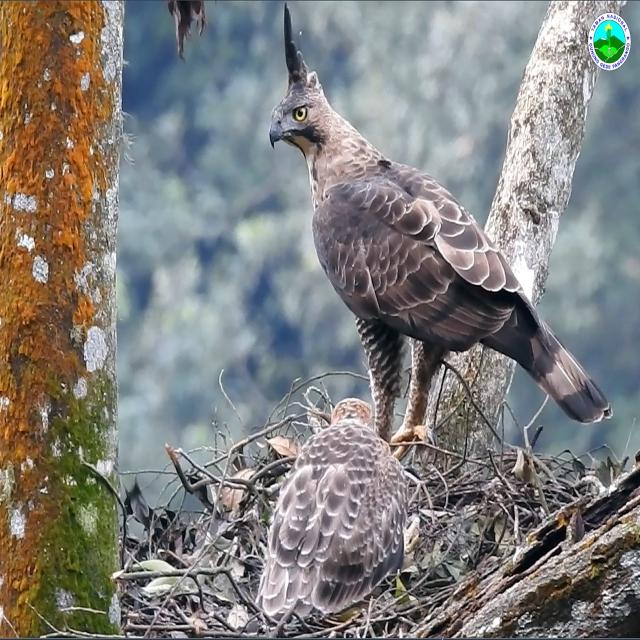Elang Jawa: (239, 0, 618, 448), (259, 390, 424, 636)
